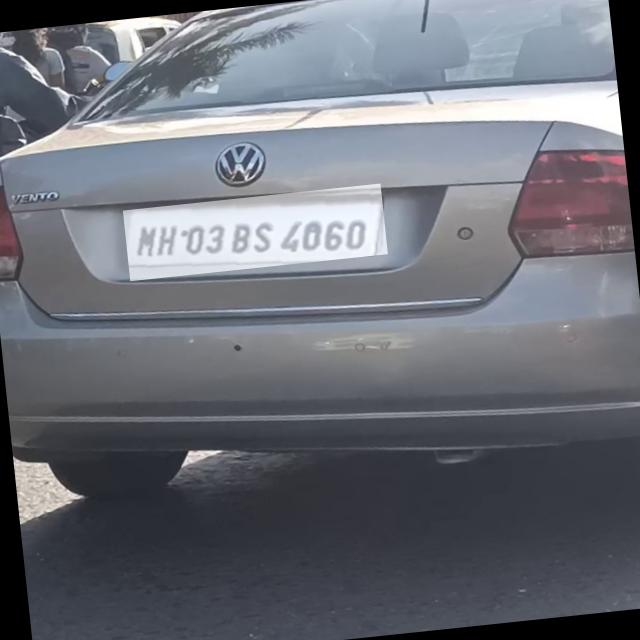Plate: (124, 184, 389, 282)
